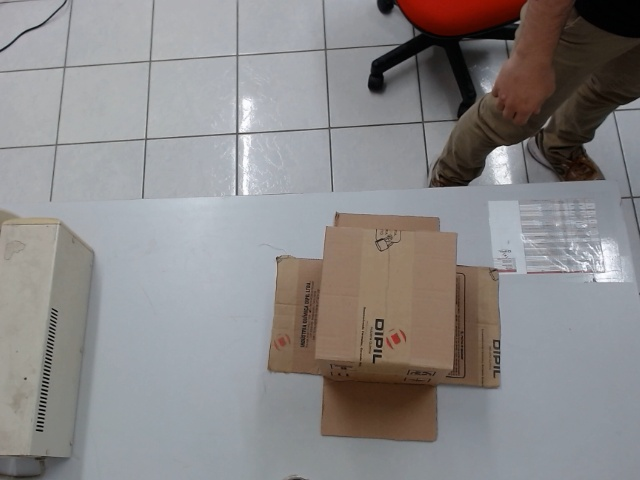caixa_principal: (312, 224, 463, 389)
